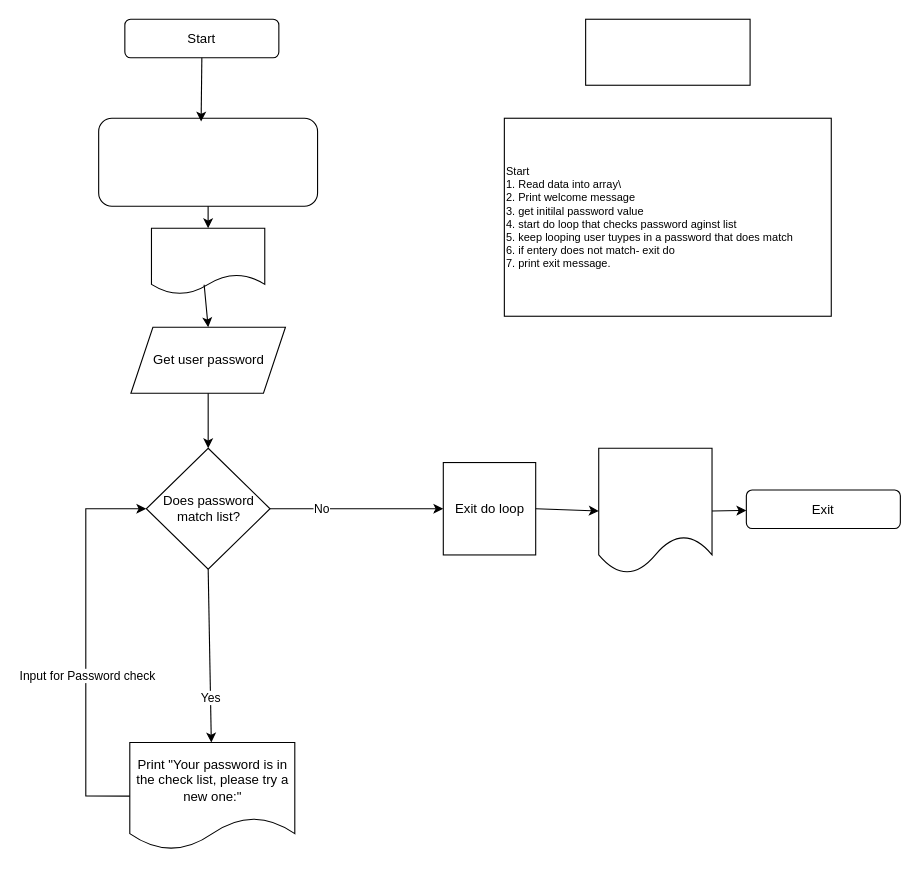
Some shapes in this 920 by 869 pixel diagram are drawn without their labels. The centre of each missing label's shape, as x and y in pixels:
CIS 129 Thomas Burns M6 Arrays: the point at 667,51
Print "Your password was not in the list": the point at 655,510
Print Welcome and Tell Exit Key: the point at 207,260
Set arry of 10 passwords: the point at 208,161
